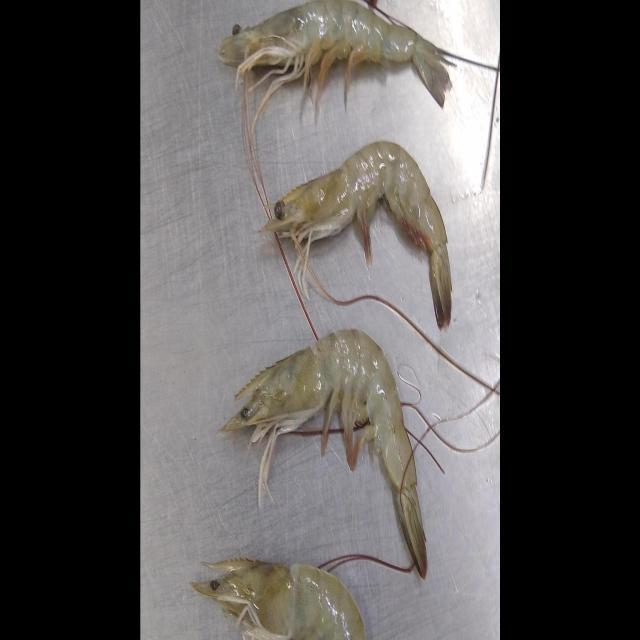shrimp: (220, 329, 428, 578), (261, 142, 451, 329), (218, 0, 451, 120), (191, 558, 366, 640)
